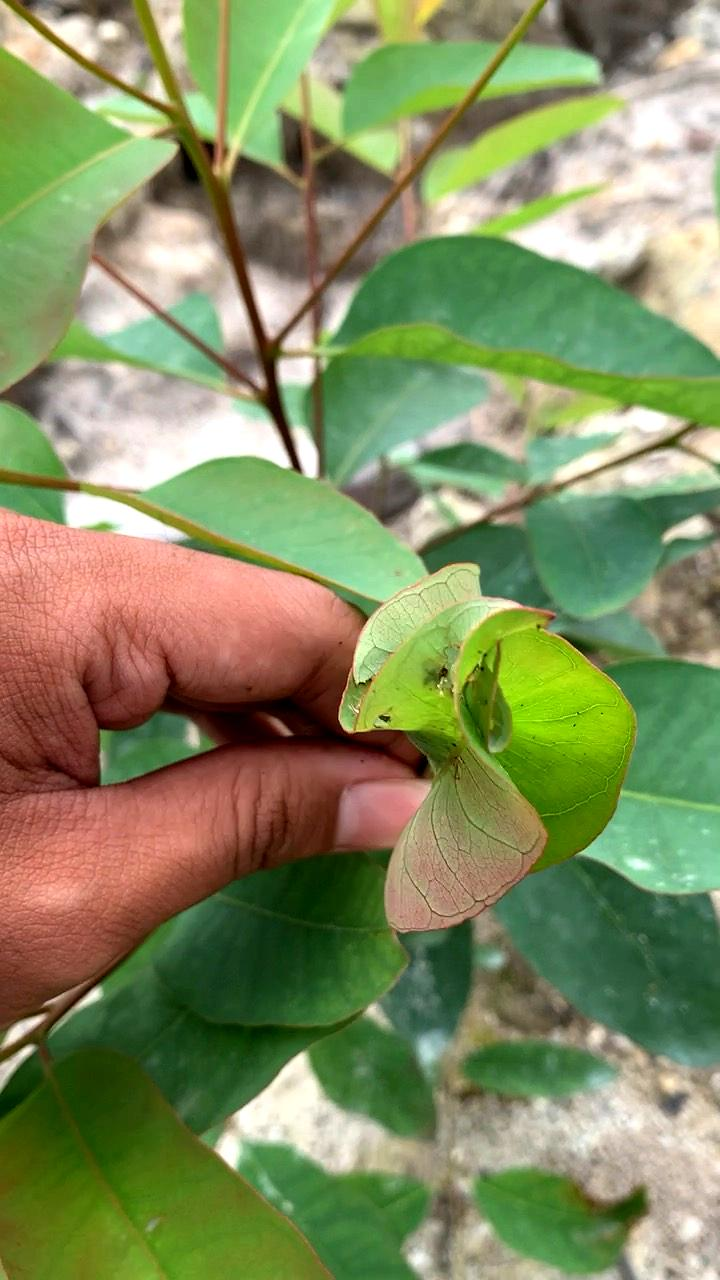Leaf Roller - Leaf: (335, 533, 649, 980)
